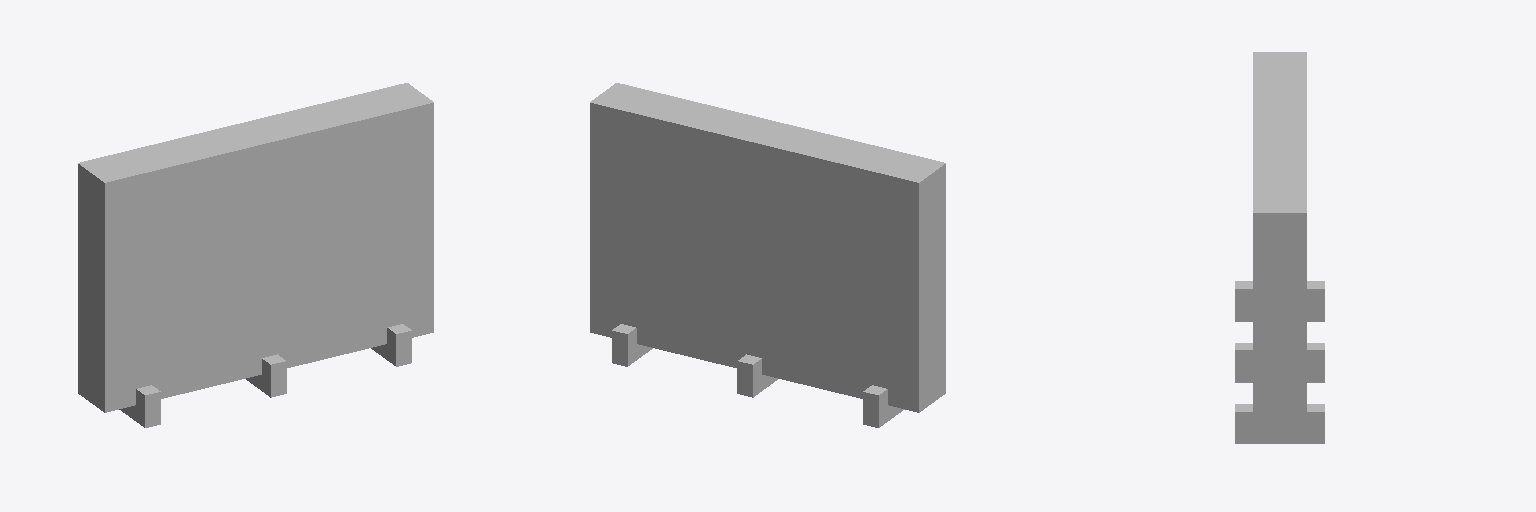
The model's file is Book.obj.
The picture shows the model from 3 angles: view 1: azimuth 30°, elevation 25°; view 2: azimuth 150°, elevation 25°; view 3: azimuth 270°, elevation 25°; orthographic projection.
Parts seen in each view (by area): view 1: Book; view 2: Book; view 3: Book.
Boxes of the visible parts, x1=… form: Book: x1=78, y1=83, x2=433, y2=427; Book: x1=590, y1=83, x2=945, y2=427; Book: x1=1235, y1=52, x2=1324, y2=443.
Size of the model in its own units: 2.1 by 1.5 by 0.5.